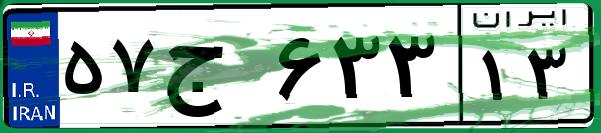1: (475, 38, 525, 113)
3: (385, 28, 445, 110), (330, 28, 385, 110), (525, 38, 570, 115)
5: (57, 26, 110, 100)
6: (270, 28, 330, 110)
7: (110, 28, 158, 98)
ج: (158, 20, 270, 120)
